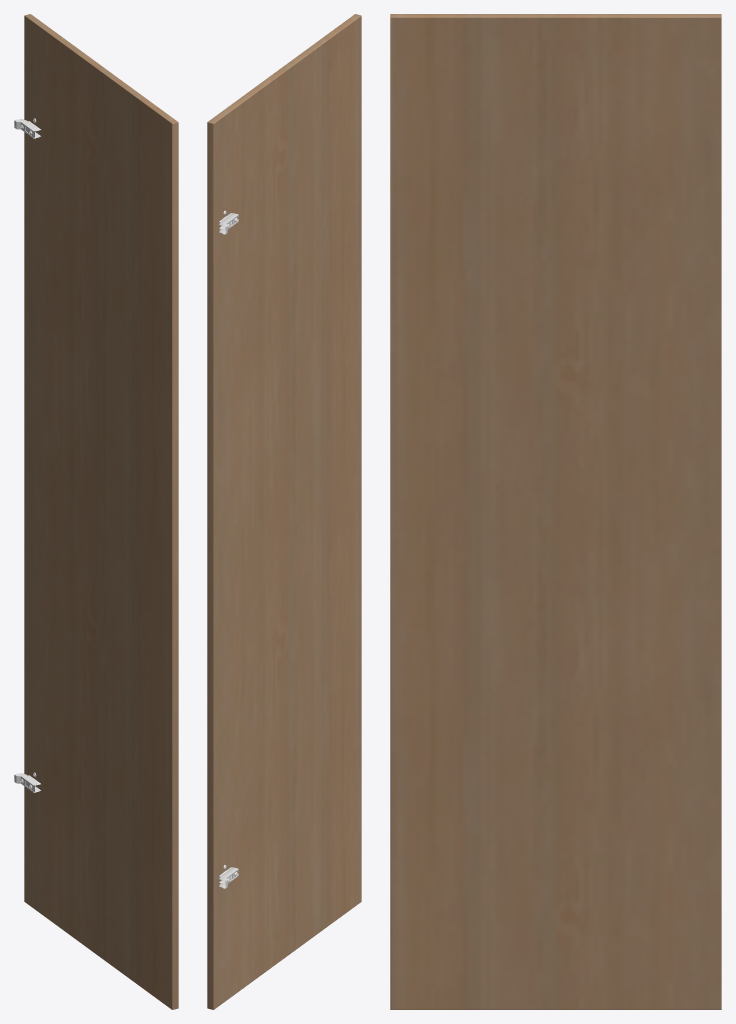
The model's file is ClosetDoorRight.fbx.
The picture shows the model from 3 angles, left to right: view 1: azimuth 30°, elevation 25°; view 2: azimuth 150°, elevation 25°; view 3: azimuth 270°, elevation 25°; orthographic projection. The views are drawn at different scales.
Parts seen in each view (by area): view 1: ClosetDoorRight; view 2: ClosetDoorRight; view 3: ClosetDoorRight.
Part boxes in pixels (<box>): ClosetDoorRight: <box>14,14,178,1009</box>; ClosetDoorRight: <box>207,14,361,1009</box>; ClosetDoorRight: <box>390,14,721,1009</box>.
Size of what is drawn, in the model's own units: 3.42 by 49.93 by 165.
Materials: 2 (2 with a texture image).
